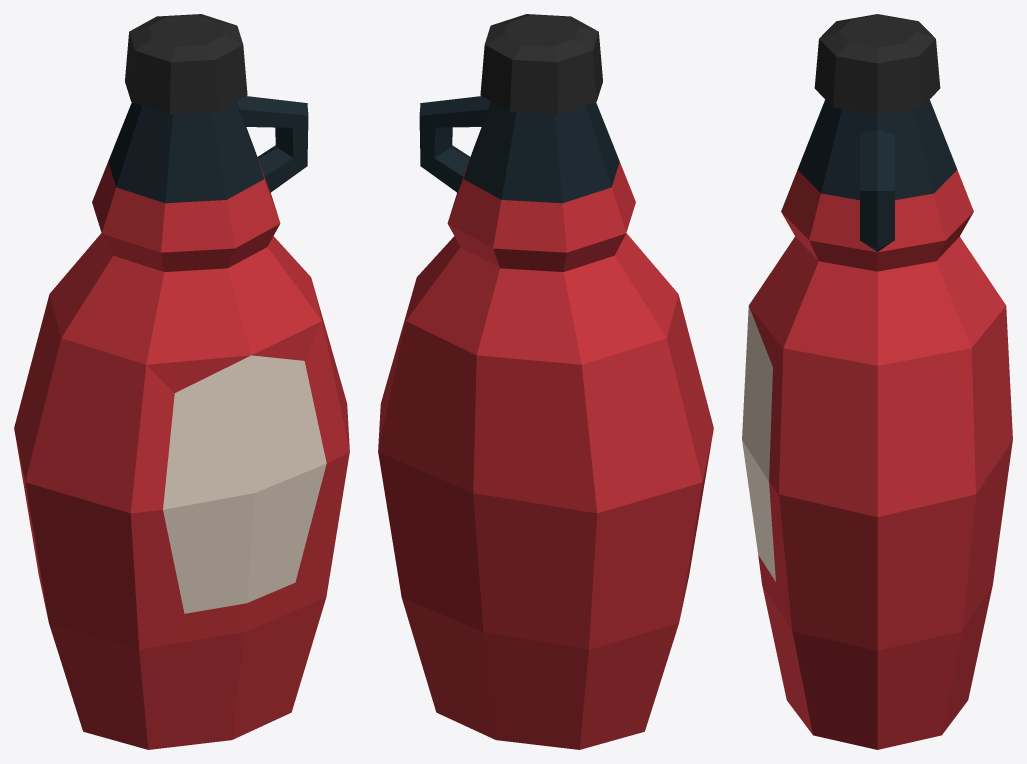
Rendered from jar-syrup.glb.
The picture shows the model from 3 angles, left to right: view 1: azimuth 30°, elevation 25°; view 2: azimuth 150°, elevation 25°; view 3: azimuth 270°, elevation 25°; orthographic projection.
Parts seen in each view (by area): view 1: jar-syrup; view 2: jar-syrup; view 3: jar-syrup.
Boxes of the visible parts, bbox=[...] form: jar-syrup: bbox=[14, 14, 349, 749]; jar-syrup: bbox=[378, 14, 713, 749]; jar-syrup: bbox=[742, 14, 1012, 749].
Bounding box in the file's own units: 0.1062 × 0.2155 × 0.0782.
1 material, 1 textured.
